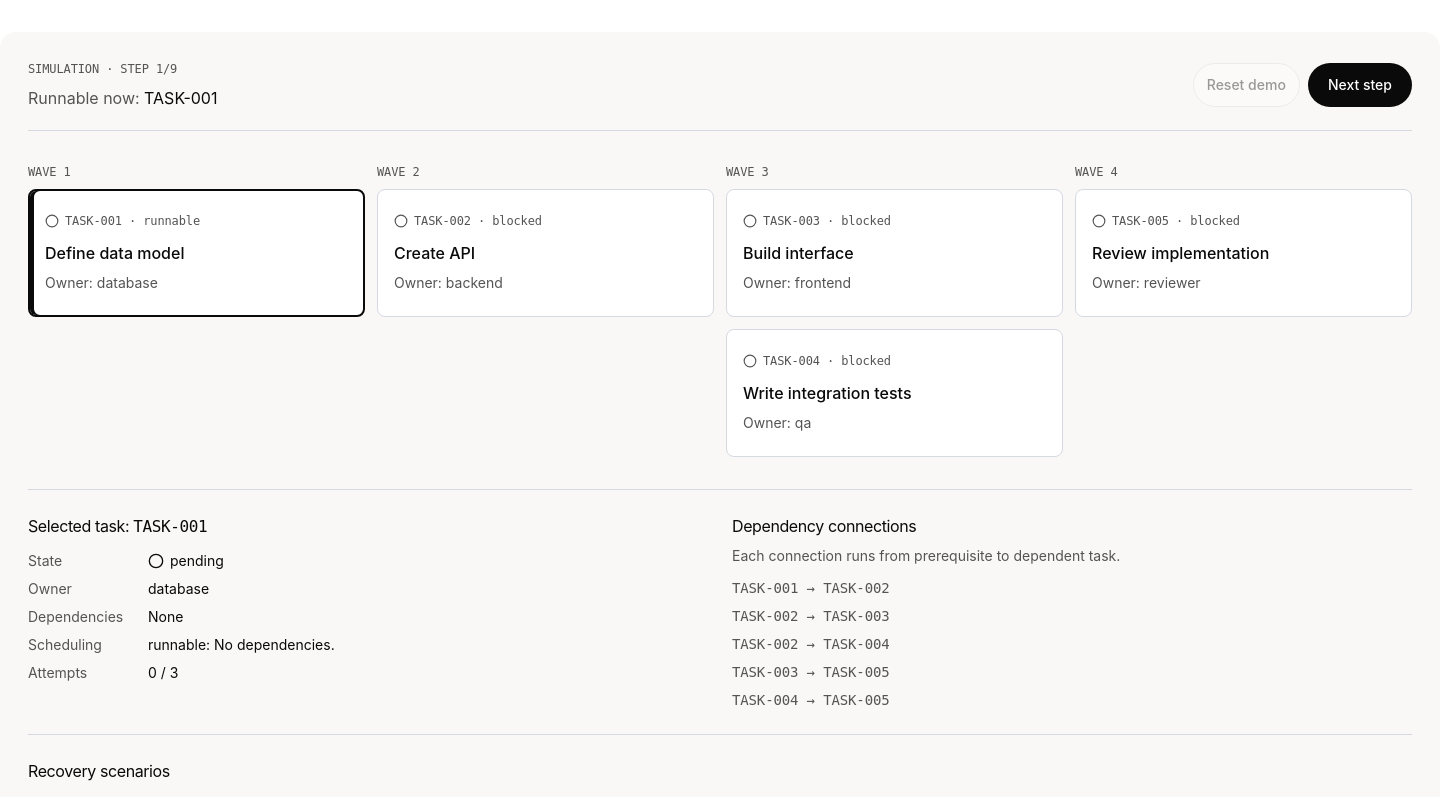
Scenario: InteractiveTaskGraph › supports selection, progression, keyboard activation, and reset
Click the button "TASK-002 · blocked Create API Owner: backend" at [442, 221], box [377,189,714,317]
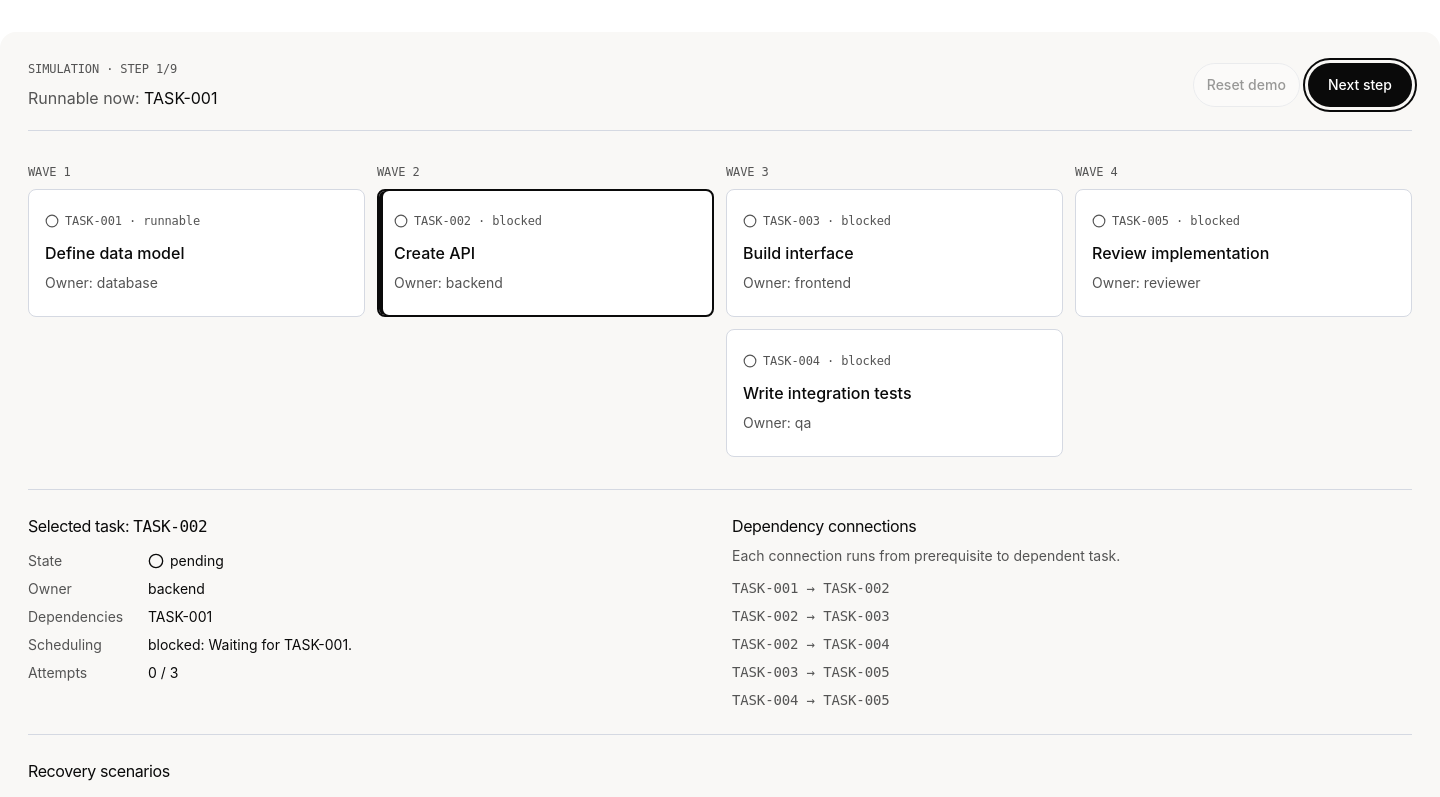
expect the text "blocked: Waiting for TASK-001." is shown: met, box [148,636,352,653]
Press Enter
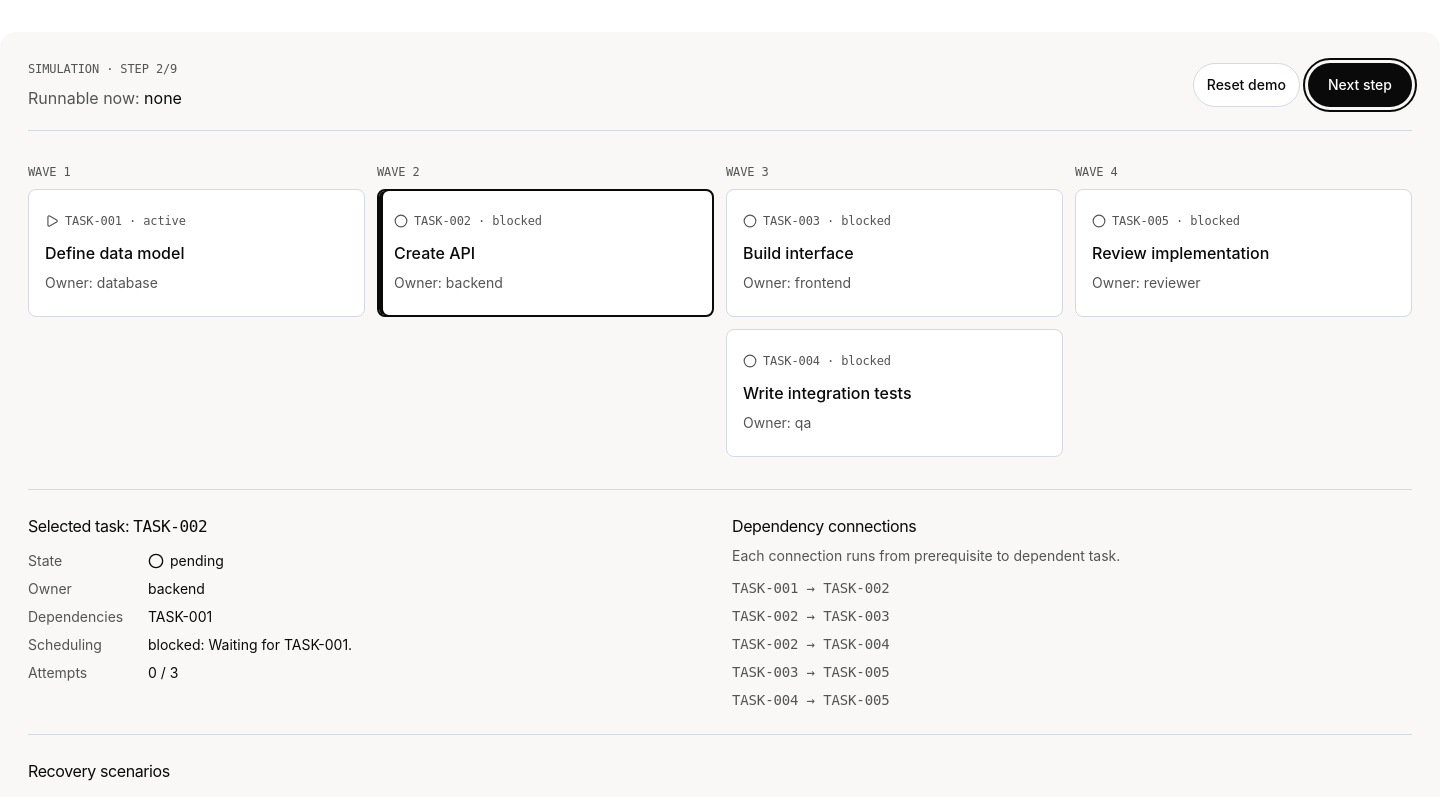
expect the text "SIMULATION · STEP 2/9" is shown: met, box [28,60,182,78]
Click the button "Reset demo" at [1246, 85], box [1193,63,1300,107]
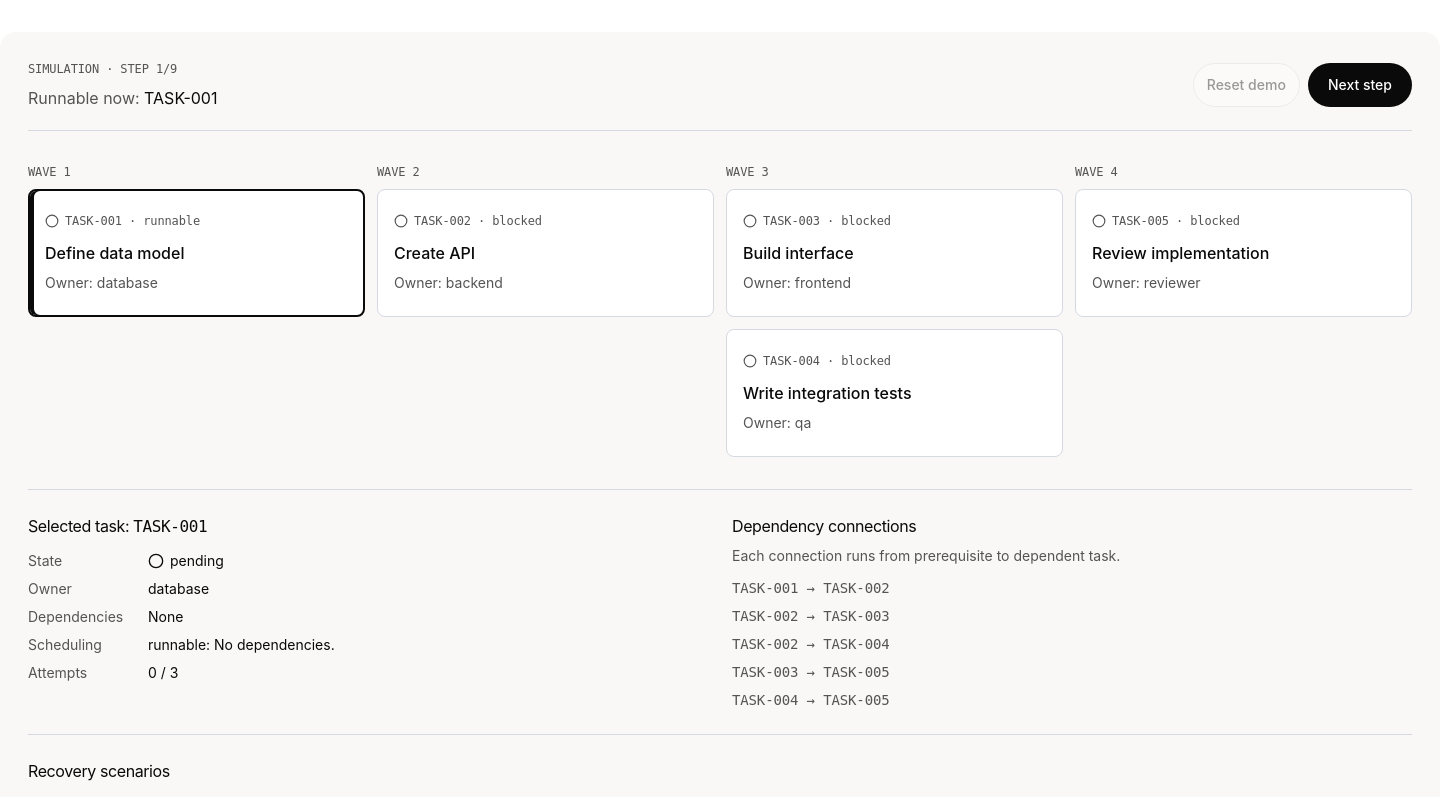
expect the text "SIMULATION · STEP 1/9" is shown: met, box [28,62,177,76]
